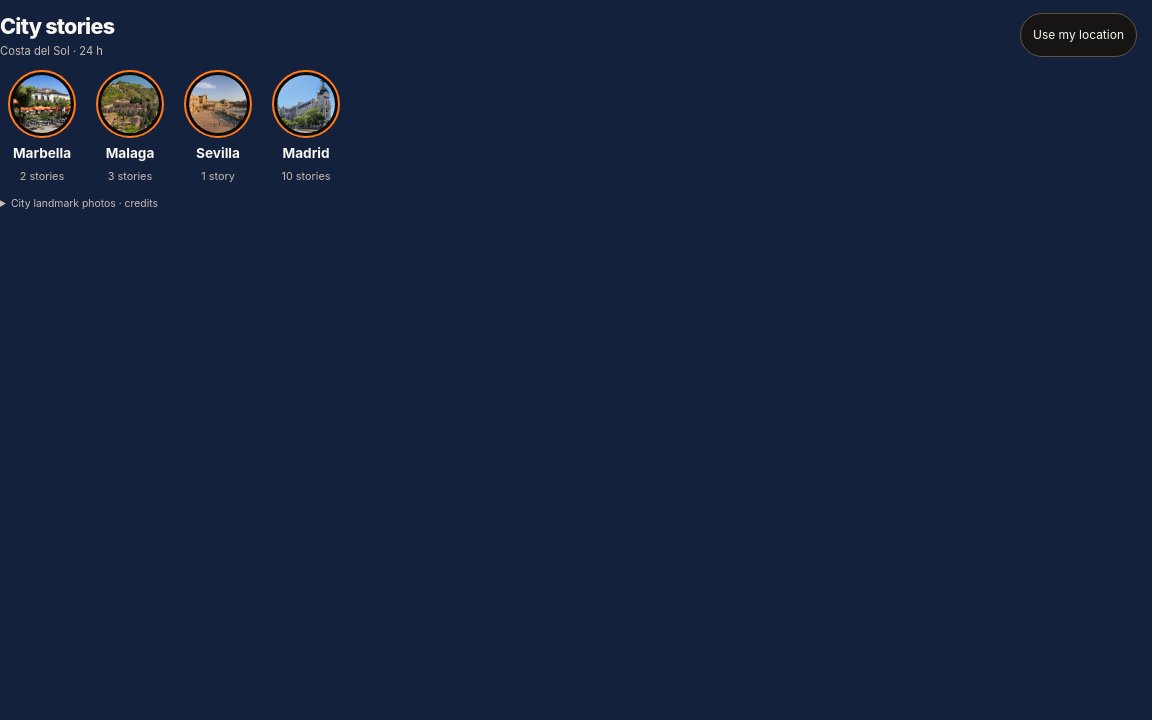
Test: withholds expired, wrong-city and non-proxy media stories
The width and height of the screenshot is (1152, 720).
Click the button "Madrid 10 stories". click: (306, 128)
box: [268,70,344,186]
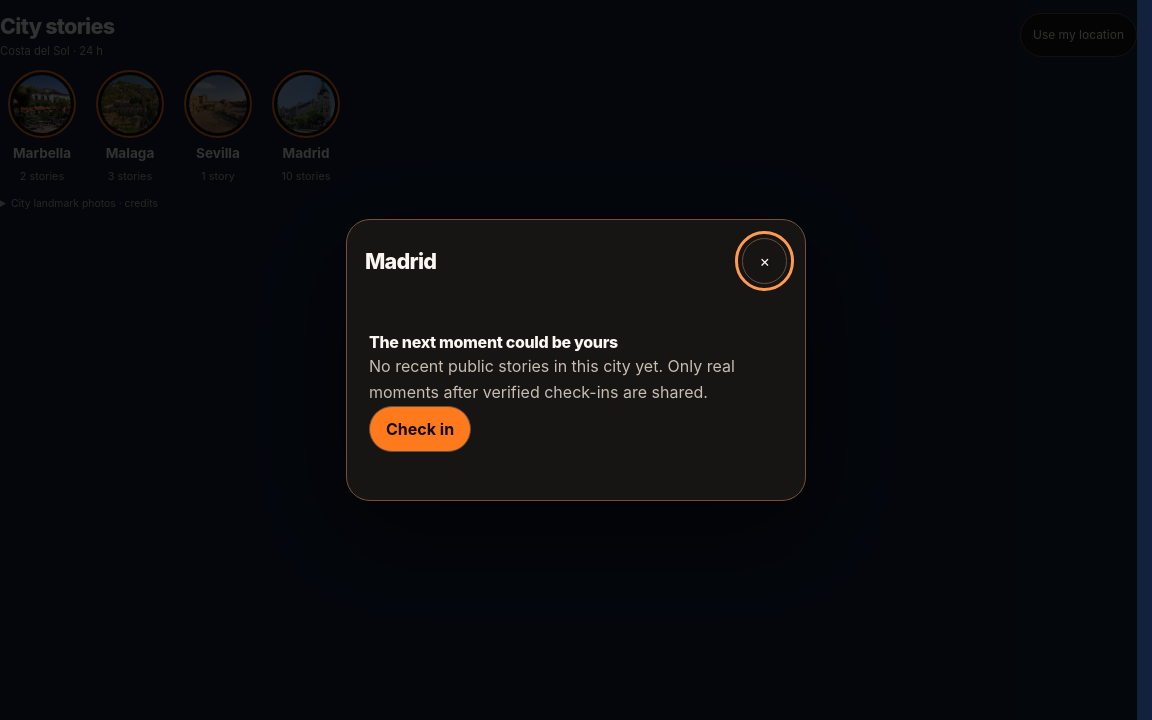
Check: the heading "The next moment could be yours" is shown, box [369,332,618,352]
